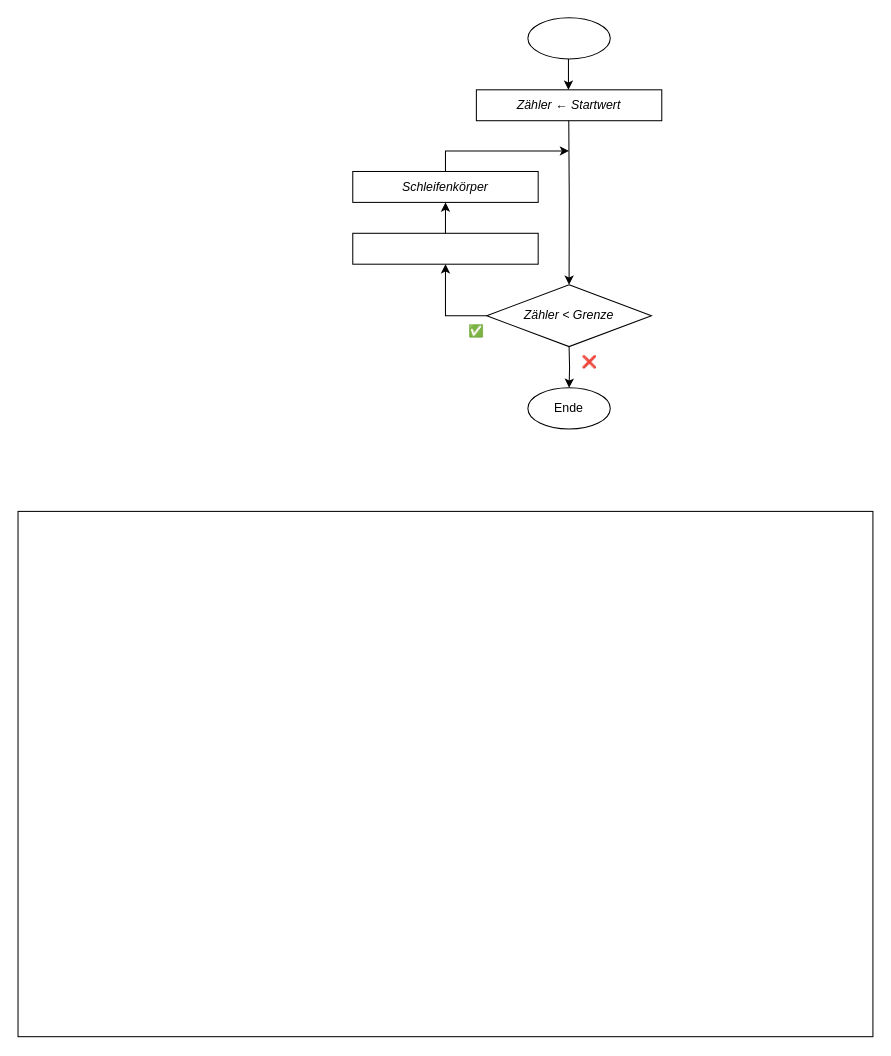
The diagram is 891 pixels wide and 1056 high, and some of its shapes have lost their labels. The shapes that lost their labels are listed below. From the top down, each one's centre as x and y in pixels, then its label:
(568,38): Start
(445,248): Zähler ← Zähler + Schrittweite
